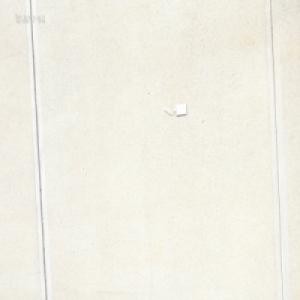LuggageTag: (163, 102, 187, 118)
